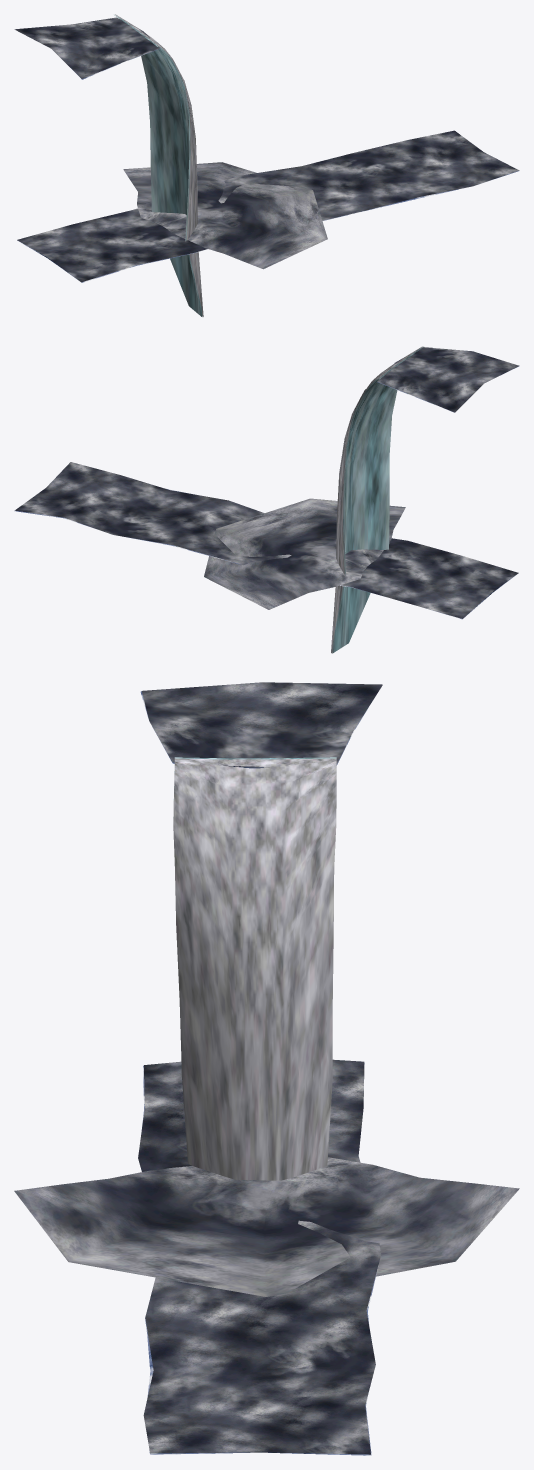
The model's file is LONE_MOUNTAIN_WATERFALLS_MAIN_WATER_CENTER01.fbx.
The picture shows the model from 3 angles, top to bottom: view 1: azimuth 30°, elevation 25°; view 2: azimuth 150°, elevation 25°; view 3: azimuth 270°, elevation 25°; orthographic projection. The views are drawn at different scales.
Visible parts, largest first — view 1: LONE_MOUNTAIN_WATERFALLS_MAIN_WATER_CENTER01; view 2: LONE_MOUNTAIN_WATERFALLS_MAIN_WATER_CENTER01; view 3: LONE_MOUNTAIN_WATERFALLS_MAIN_WATER_CENTER01.
Part boxes in pixels (x1,y1,x2,y2): LONE_MOUNTAIN_WATERFALLS_MAIN_WATER_CENTER01: (14,14,519,316); LONE_MOUNTAIN_WATERFALLS_MAIN_WATER_CENTER01: (14,346,519,653); LONE_MOUNTAIN_WATERFALLS_MAIN_WATER_CENTER01: (14,682,519,1455).
Bounding box in the file's own units: 227537 × 145036 × 121915.
5 materials, 5 textured.
